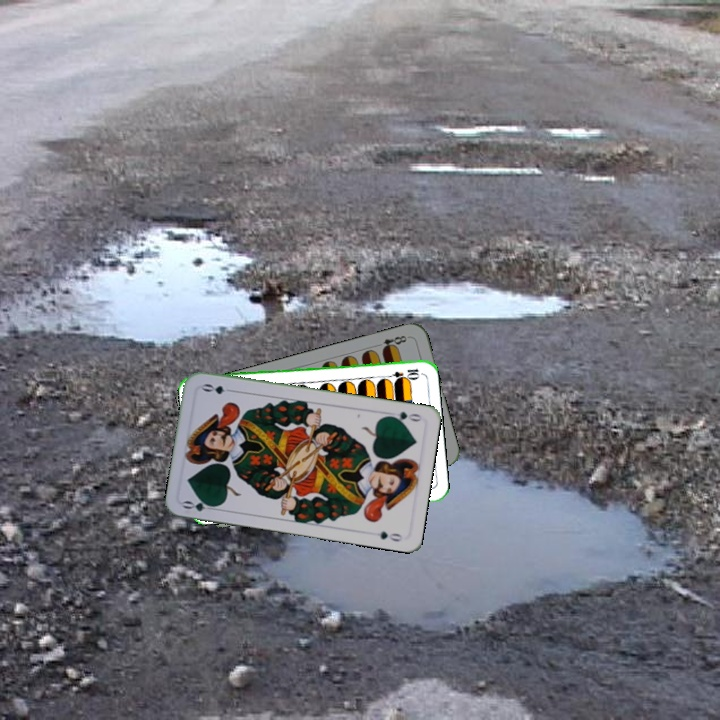E10: (381, 365, 422, 382)
E8: (372, 331, 412, 354)
GO: (383, 407, 424, 425), (179, 496, 220, 514)
